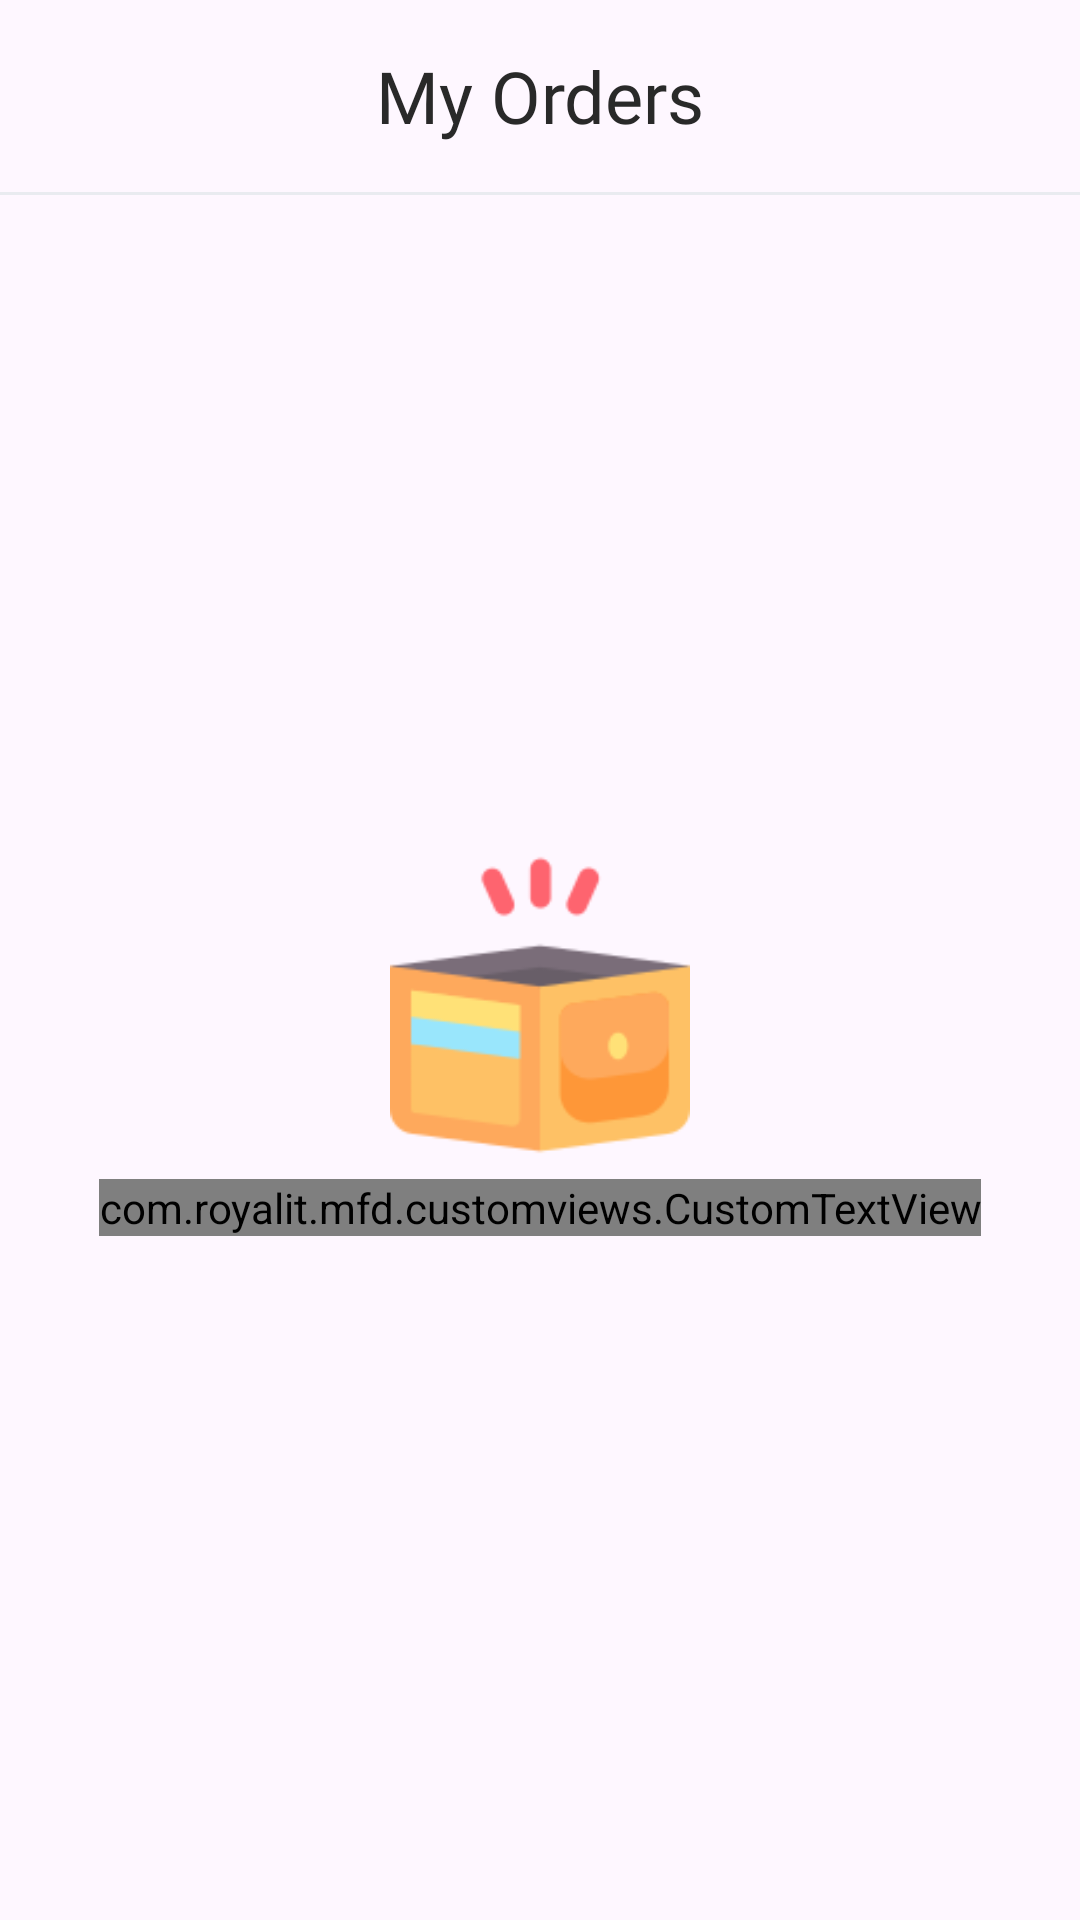

Icons on this 1080px x 1920px Android screen, each with the point to tap as (x=x, y=y):
no orders: (x=540, y=1005)
